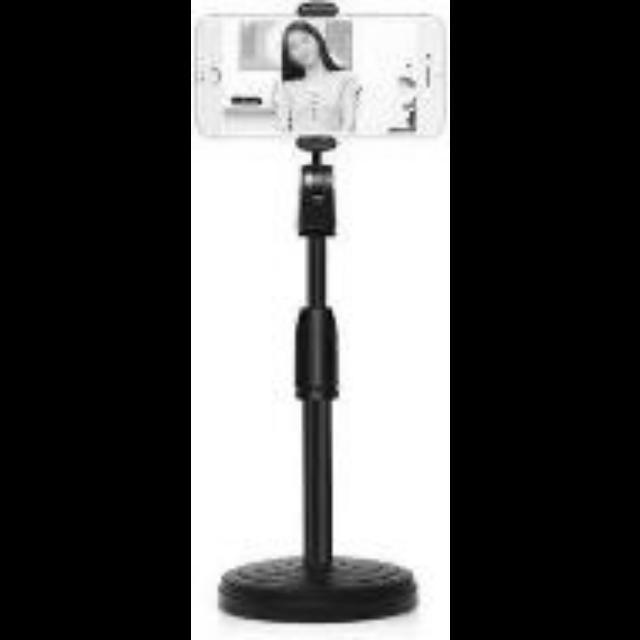fake: (196, 4, 450, 150)
